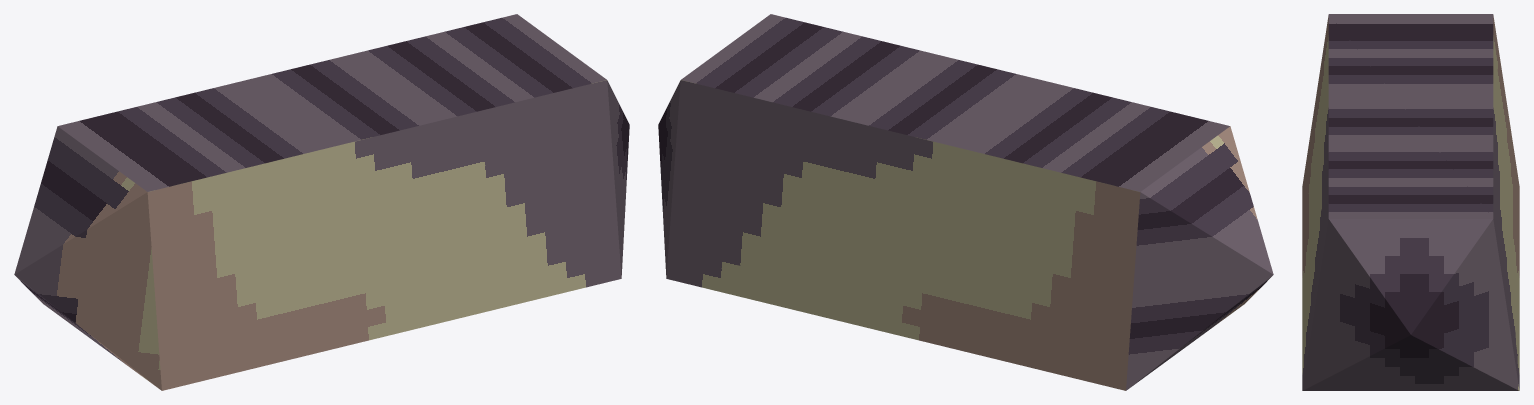
File: armadillo_forearm.glb
3 renders of one model, left to right at view 1: azimuth 30°, elevation 25°; view 2: azimuth 150°, elevation 25°; view 3: azimuth 270°, elevation 25°, orthographic. The views are drawn at different scales.
Visible parts, largest first — view 1: Cube.120; view 2: Cube.120; view 3: Cube.120.
Boxes of the visible parts, x1,y1,x2,y2 form: Cube.120: (14,14,629,390); Cube.120: (658,14,1273,390); Cube.120: (1302,14,1519,390).
Size of the model in its own units: 2.41 by 0.7043 by 0.8053.
1 material, 1 textured.
